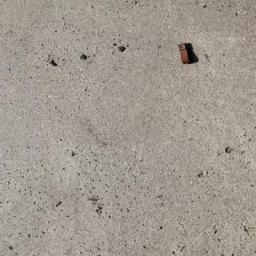FOD: (176, 39, 202, 68)
